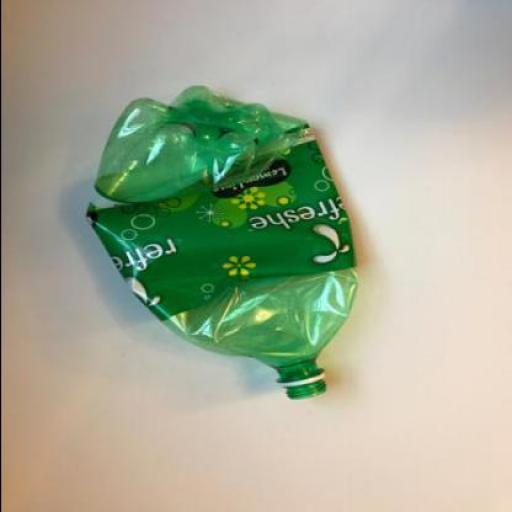plastic: (82, 86, 360, 400), (84, 125, 353, 322)
